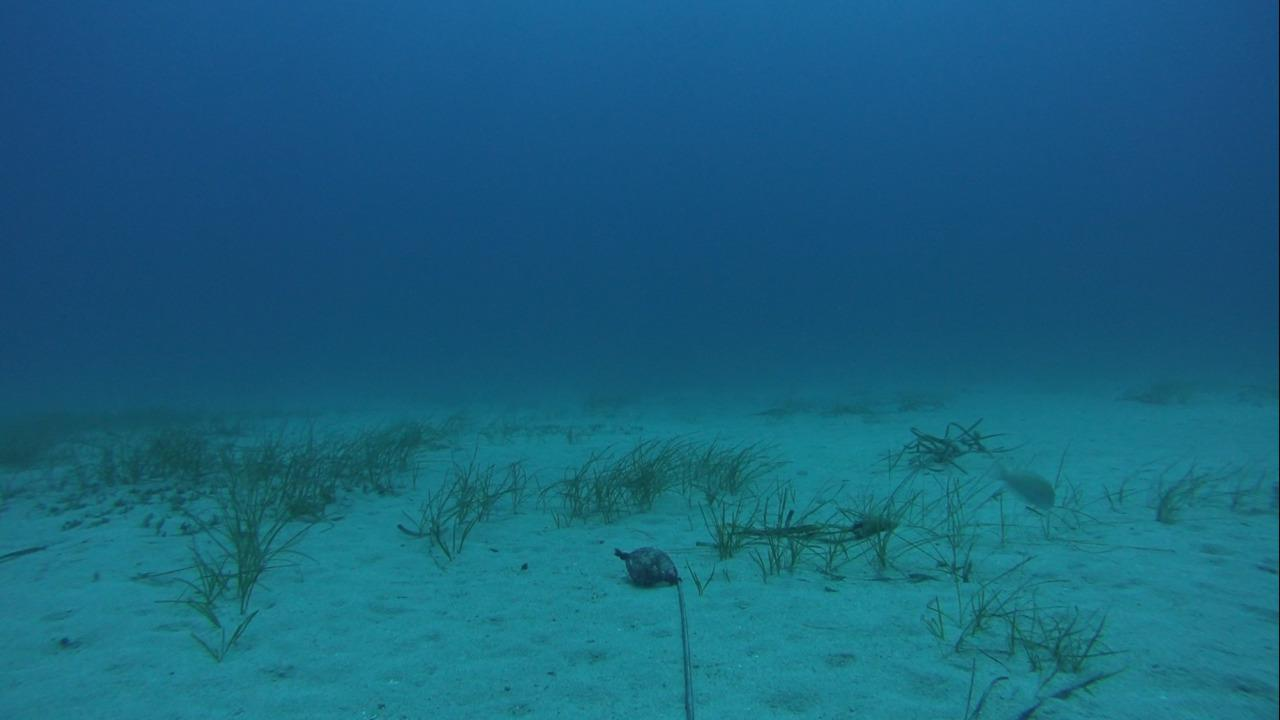raor: (988, 456, 1056, 508)
